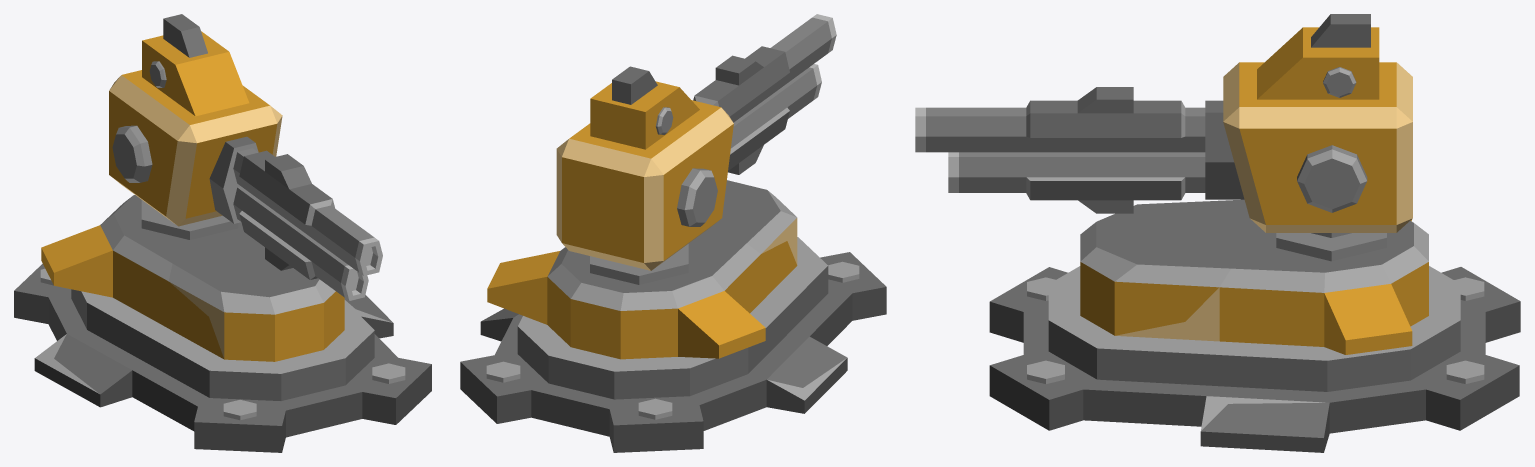
File: tower_lethal_yellow_3.fbx
3 renders of one model, left to right at view 1: azimuth 30°, elevation 25°; view 2: azimuth 150°, elevation 25°; view 3: azimuth 270°, elevation 25°, orthographic. The views are drawn at different scales.
Parts seen in each view (by area): view 1: tower_lethal_yellow_3, top_lethal_yellow_3; view 2: tower_lethal_yellow_3, top_lethal_yellow_3; view 3: tower_lethal_yellow_3, top_lethal_yellow_3.
Part boxes in pixels (bbox=[...]): tower_lethal_yellow_3: bbox=[14, 195, 431, 452]; top_lethal_yellow_3: bbox=[109, 14, 382, 300]; tower_lethal_yellow_3: bbox=[460, 180, 886, 452]; top_lethal_yellow_3: bbox=[556, 14, 836, 284]; tower_lethal_yellow_3: bbox=[989, 199, 1520, 452]; top_lethal_yellow_3: bbox=[915, 14, 1412, 261].
Size of the model in its own units: 159 by 144 by 229.
